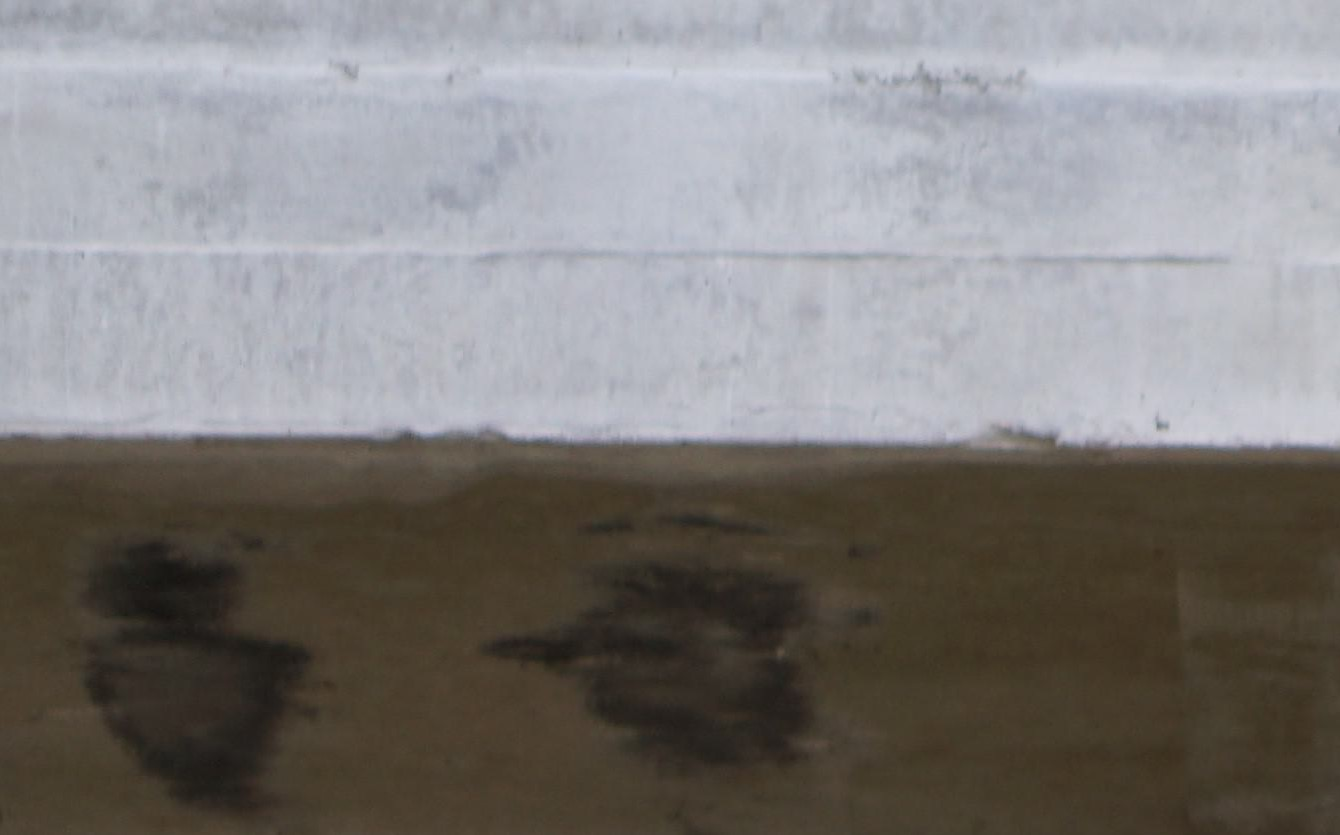Corrosion: (477, 510, 818, 771), (80, 537, 314, 814)
